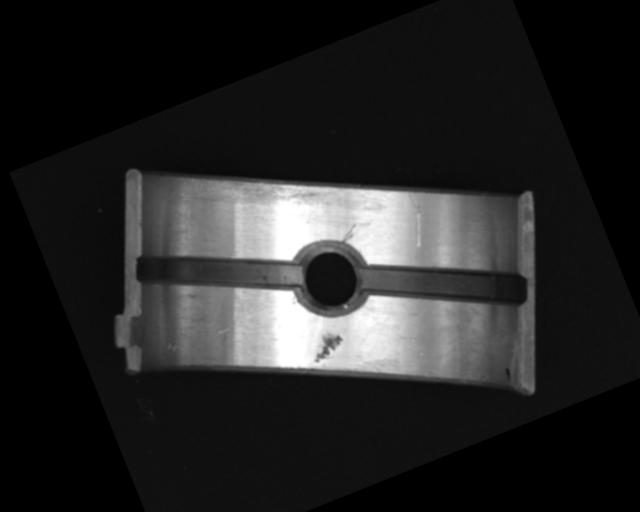blot: (502, 366, 513, 382)
bruise: (304, 327, 347, 364), (213, 321, 235, 337)
gap: (358, 214, 530, 353), (130, 204, 303, 338)
hole: (285, 229, 379, 327)
nick: (388, 187, 436, 259), (336, 223, 360, 244)
scratch: (186, 124, 351, 252)
